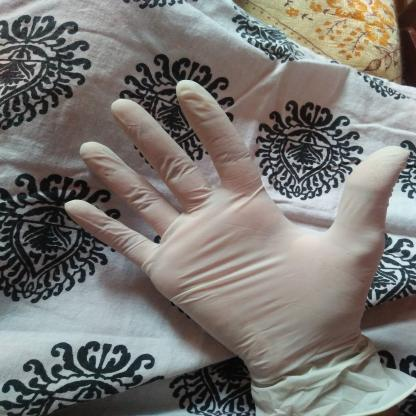gloved_hand: (59, 72, 413, 413)
